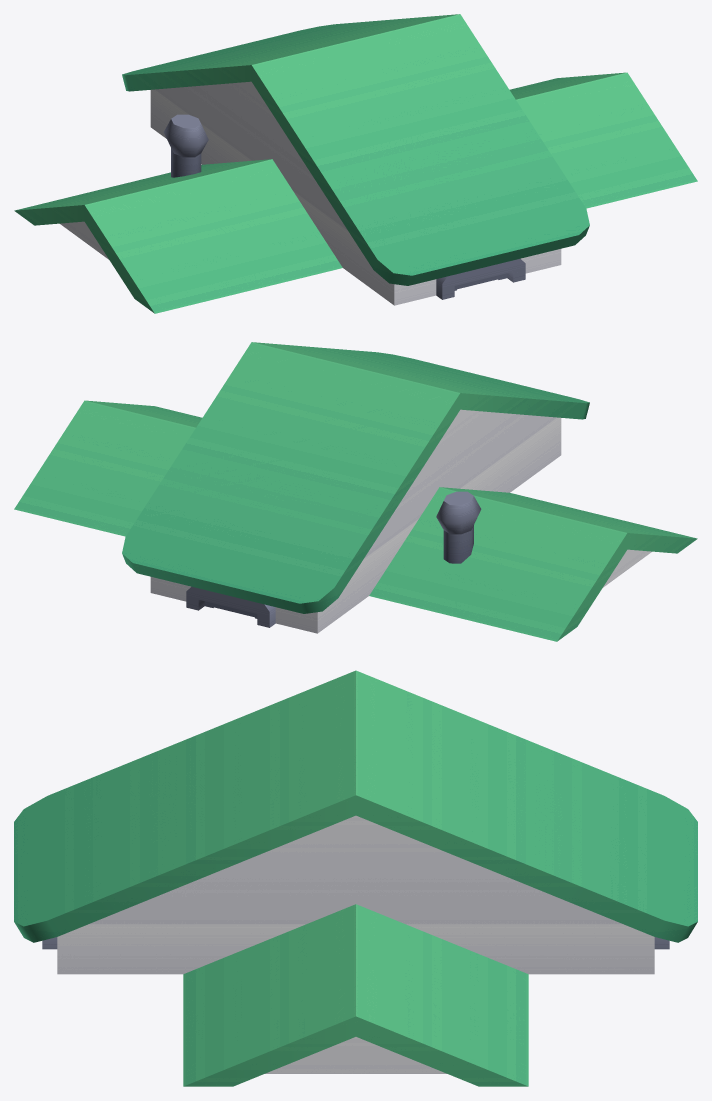
Rendered from suburban-a.glb.
The picture shows the model from 3 angles, top to bottom: view 1: azimuth 30°, elevation 25°; view 2: azimuth 150°, elevation 25°; view 3: azimuth 270°, elevation 25°; orthographic projection. The views are drawn at different scales.
Visible parts, largest first — view 1: building-type-a; view 2: building-type-a; view 3: building-type-a.
Part boxes in pixels (x1,y1,x2,y2): building-type-a: [14, 14, 697, 313]; building-type-a: [14, 342, 697, 641]; building-type-a: [14, 670, 697, 1086].
Size of the model in its own units: 11 by 3.03 by 9.8.
1 material, 1 textured.
